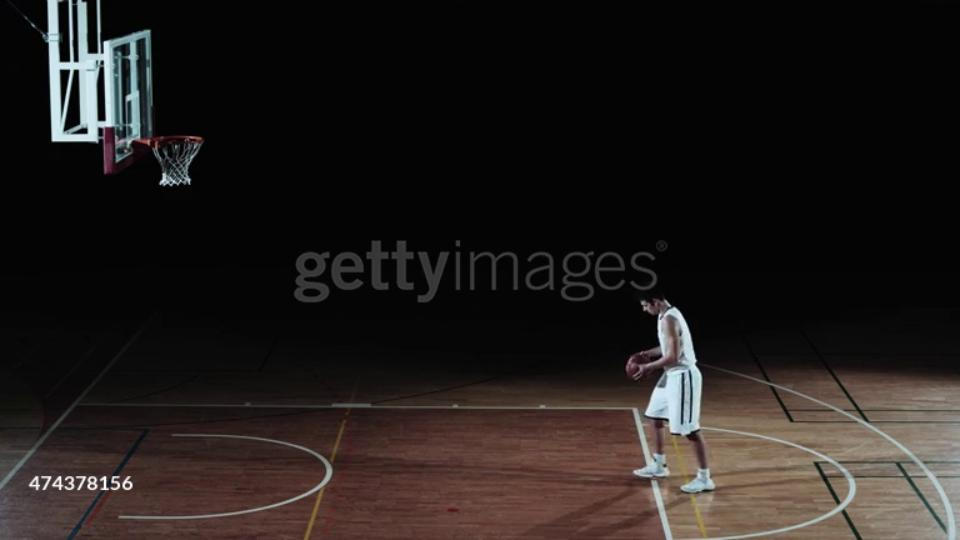hoop: (134, 130, 208, 156)
